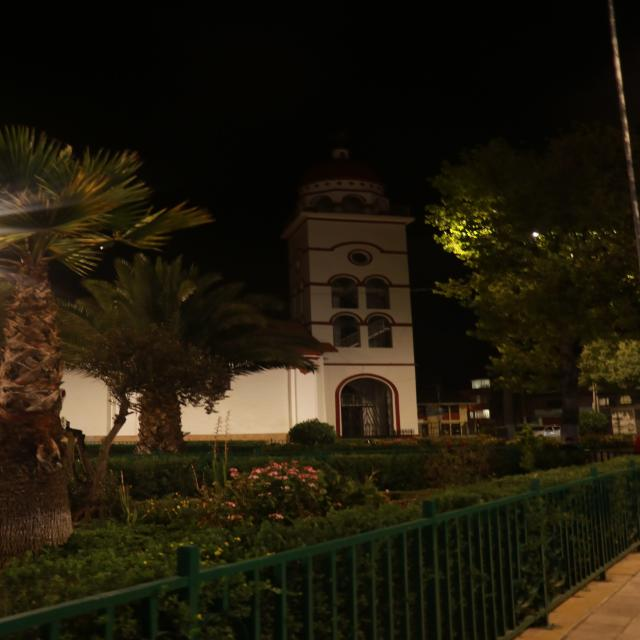CAMPANARIO: (286, 208, 428, 361)
CUPULA: (304, 146, 400, 220)
TORRES: (272, 120, 443, 453)
colonial-architecture-: (0, 110, 563, 469)
